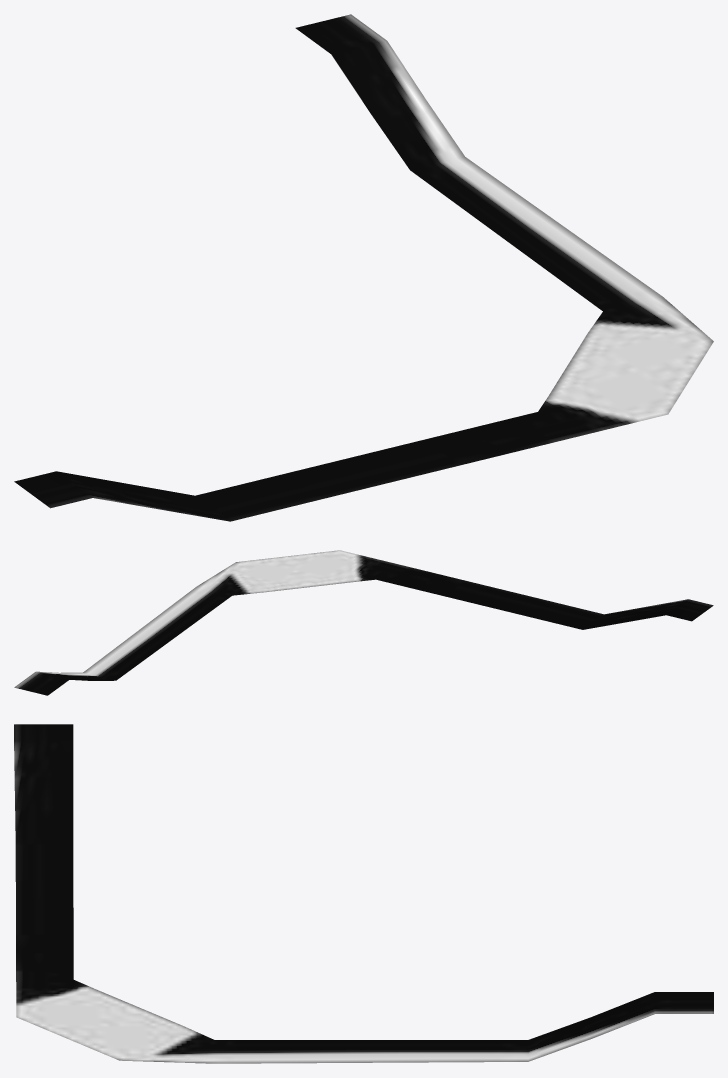
The picture shows the model from 3 angles, top to bottom: view 1: azimuth 30°, elevation 25°; view 2: azimuth 150°, elevation 25°; view 3: azimuth 270°, elevation 25°; orthographic projection. The views are drawn at different scales.
Parts seen in each view (by area): view 1: sd004; view 2: sd004; view 3: sd004.
Boxes of the visible parts, x1,y1,x2,y2 form: sd004: (14, 14, 713, 521); sd004: (14, 550, 713, 695); sd004: (14, 724, 713, 1063).
Size of the model in its own units: 1909 by 146 by 1934.
